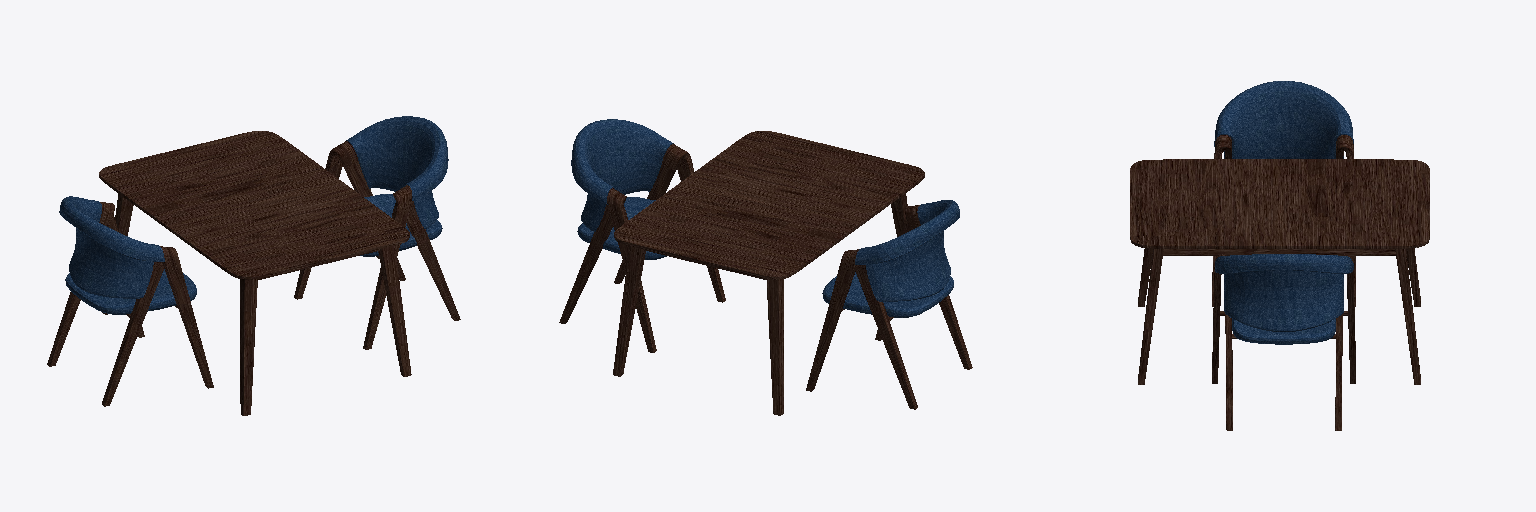
The picture shows the model from 3 angles: view 1: azimuth 30°, elevation 25°; view 2: azimuth 150°, elevation 25°; view 3: azimuth 270°, elevation 25°; orthographic projection.
Parts seen in each view (by area): view 1: table_set_02_CHAIR2_polySurface79_Mesh.002; view 2: table_set_02_CHAIR2_polySurface79_Mesh.002; view 3: table_set_02_CHAIR2_polySurface79_Mesh.002.
Boxes of the visible parts, box(x1,y1,x2,y2) form: table_set_02_CHAIR2_polySurface79_Mesh.002: box(47, 116, 460, 415); table_set_02_CHAIR2_polySurface79_Mesh.002: box(559, 119, 972, 415); table_set_02_CHAIR2_polySurface79_Mesh.002: box(1130, 81, 1429, 430).
Size of the model in its own units: 2.08 by 0.9538 by 1.47.
2 materials, 2 textured.